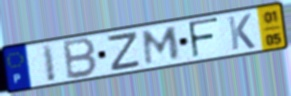B: (63, 36, 99, 81)
F: (186, 16, 221, 60)
I: (41, 42, 59, 84)
K: (226, 12, 257, 52)
M: (141, 25, 181, 67)
Z: (107, 30, 143, 73)
